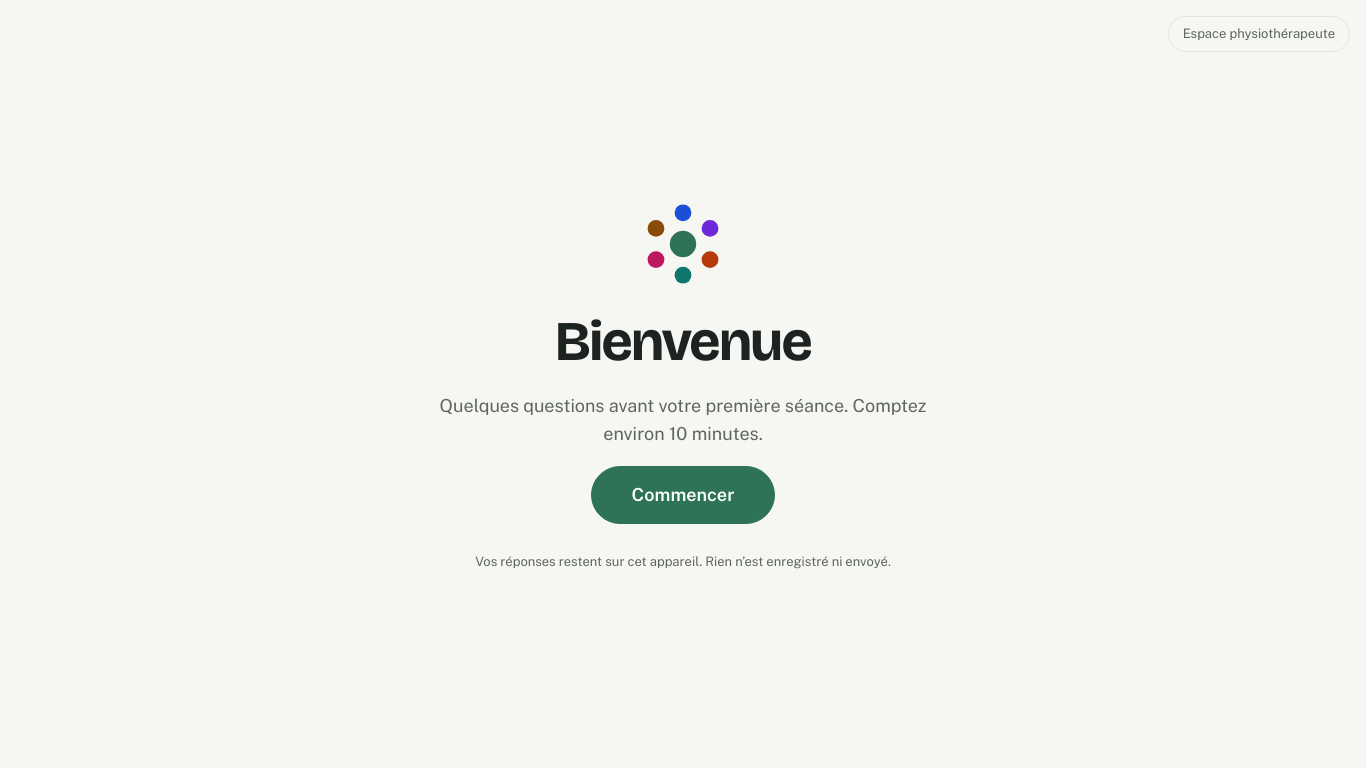
parcours patient › une question par écran ; la zone est obligatoire ; le parcours alimente le moteur
Later steps or results of the test are not shown.
Click the button "Commencer" at (683, 495), box [591, 466, 776, 524]
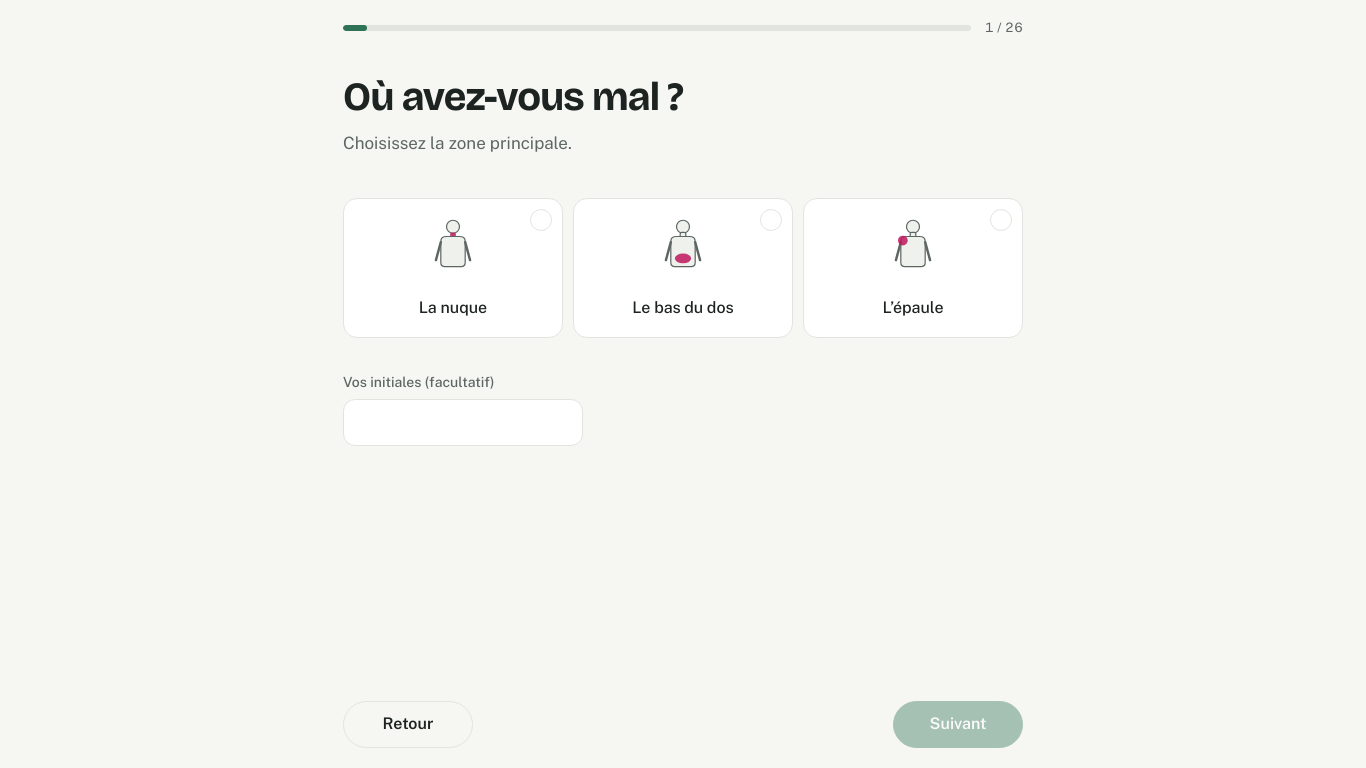
Expected: the heading "Où avez-vous mal ?" is shown, [343, 73, 683, 121]
Expected: the button "Suivant" is disabled, [893, 701, 1023, 748]
